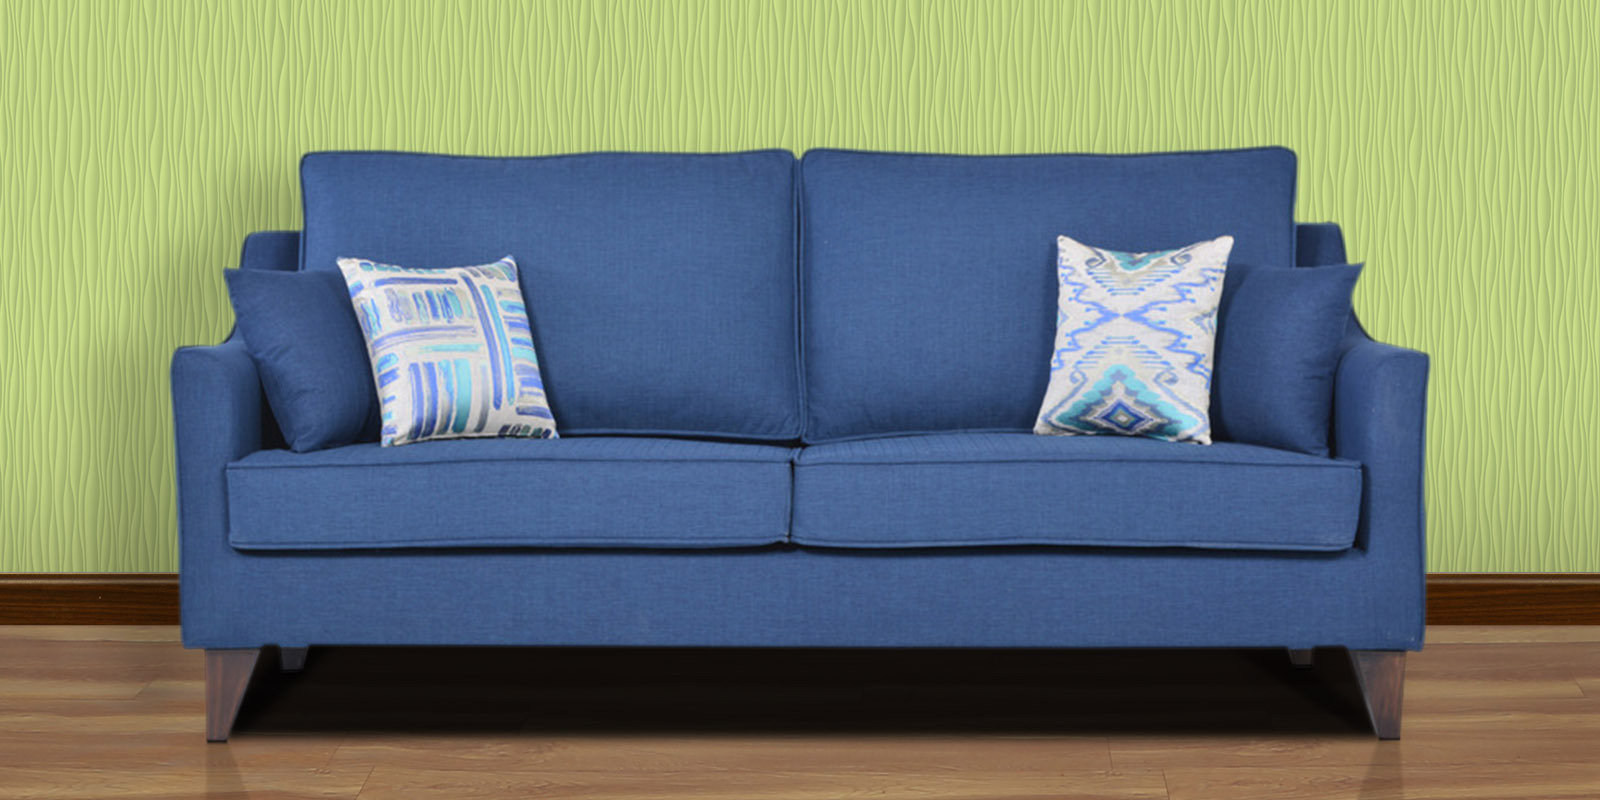Ithaca Impulse Three Seater Sofa with Throw Cushions in Teal Blue Colour by Urba: (116, 135, 1463, 764)
